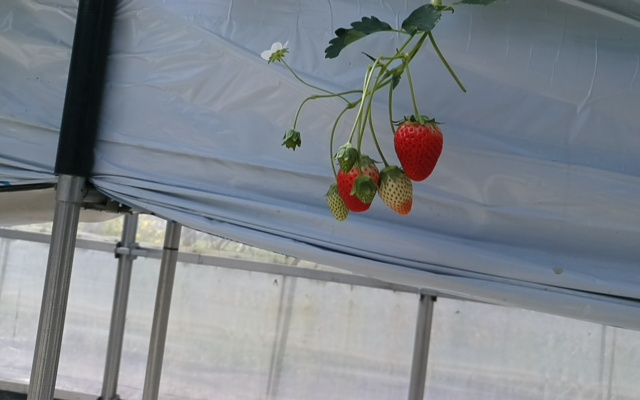GreenStrawberry: (376, 165, 415, 215), (326, 183, 348, 223)
MatureStrawberry: (393, 111, 445, 184), (335, 150, 379, 213)
